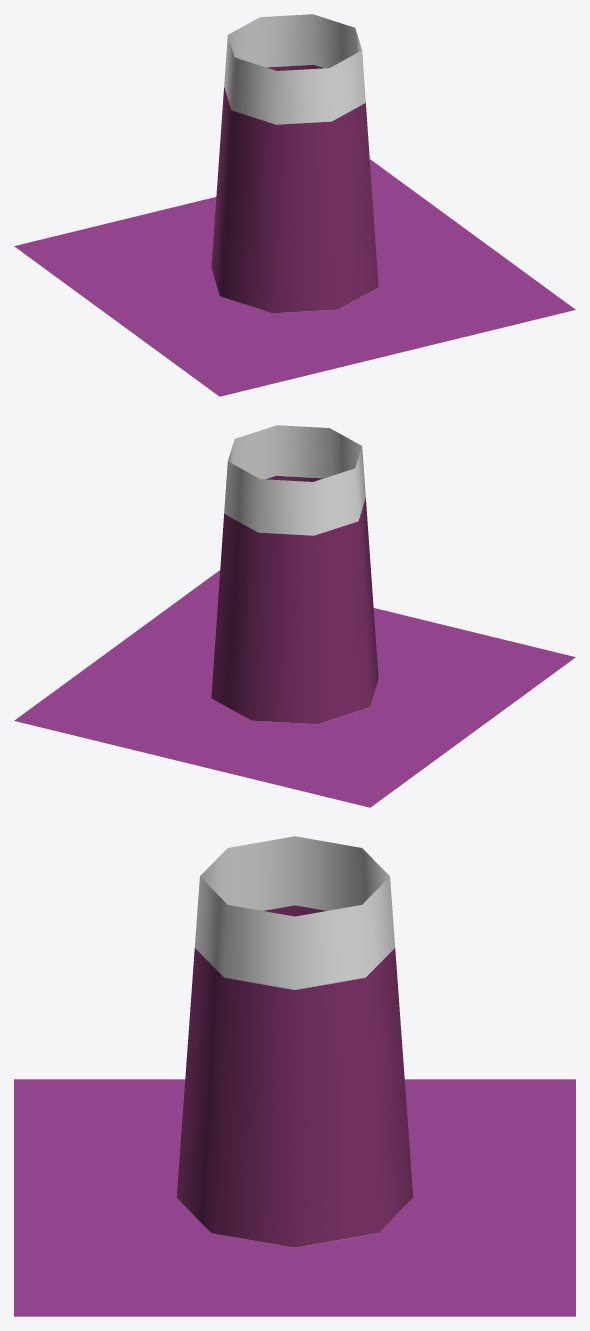
Rendered from LightPinkFinal.fbx.
The picture shows the model from 3 angles, top to bottom: view 1: azimuth 30°, elevation 25°; view 2: azimuth 150°, elevation 25°; view 3: azimuth 270°, elevation 25°; orthographic projection. The views are drawn at different scales.
Visible parts, largest first — view 1: Cylinder; view 2: Cylinder; view 3: Cylinder.
Part boxes in pixels (x1,y1,x2,y2): Cylinder: (14,14,575,396); Cylinder: (14,425,575,807); Cylinder: (14,836,575,1316).
Bounding box in the file's own units: 475 × 300 × 475.
